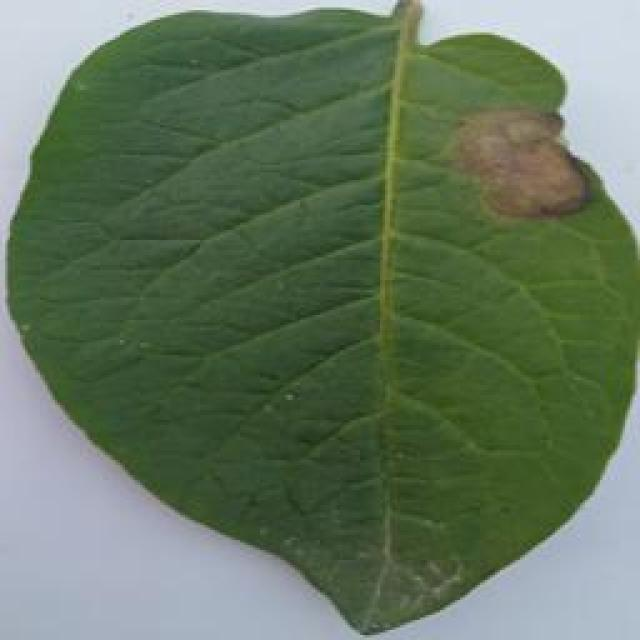Potato_Late_Blight: (5, 6, 624, 634)
